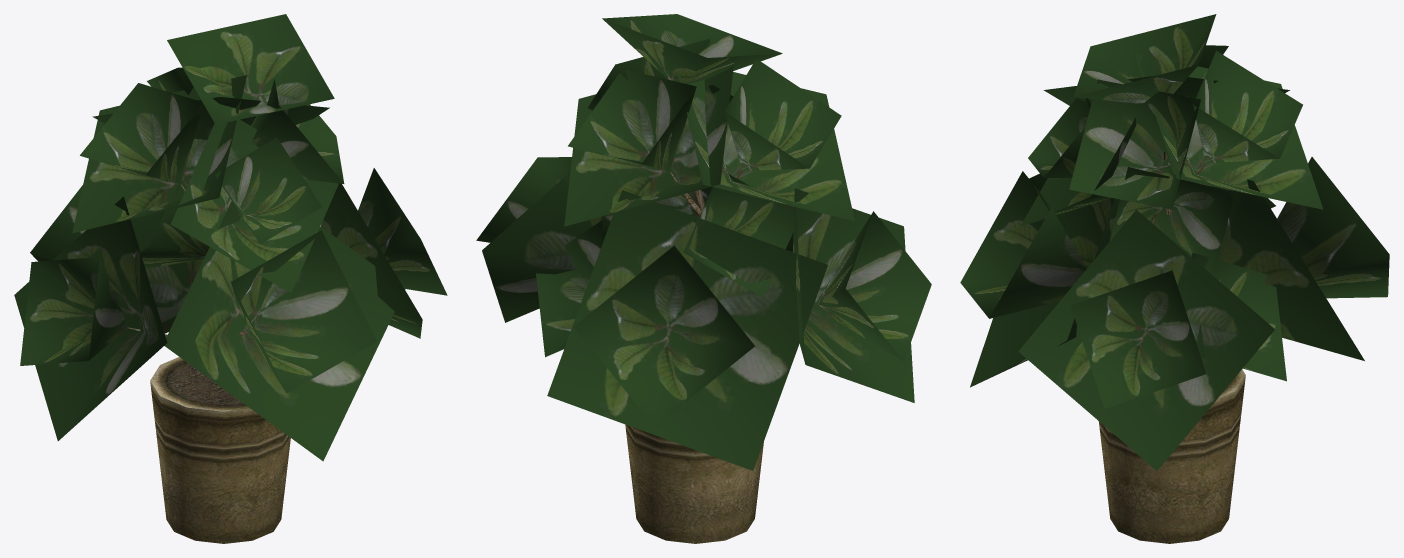
Rendered from frn_all_potted_plants_sml_s05_l0.fbx.
3 renders of one model, left to right at view 1: azimuth 30°, elevation 25°; view 2: azimuth 150°, elevation 25°; view 3: azimuth 270°, elevation 25°, orthographic. The views are drawn at different scales.
Parts seen in each view (by area): view 1: mesh_node; view 2: mesh_node; view 3: mesh_node.
Boxes of the visible parts, box(x1,y1,x2,y2) form: mesh_node: box(14, 14, 447, 543); mesh_node: box(476, 14, 931, 543); mesh_node: box(960, 14, 1389, 543).
Size of the model in its own units: 1.27 by 1.45 by 1.15.
